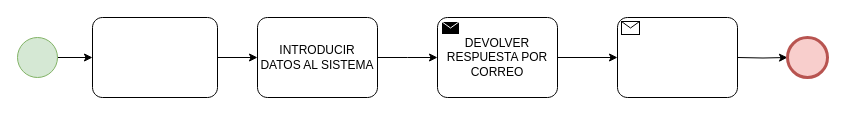
Image size: 845x115. Some labels were removed from this diagram. The shapes that lost their labels are listed below. From the top down, each one's box as (x1, y1, x2, y2) in pixels, then its label:
(92, 16, 218, 98): RECIBIR RECAUDOS DE CREDITO
(616, 16, 738, 98): RECIBIR EL MENSAJE
